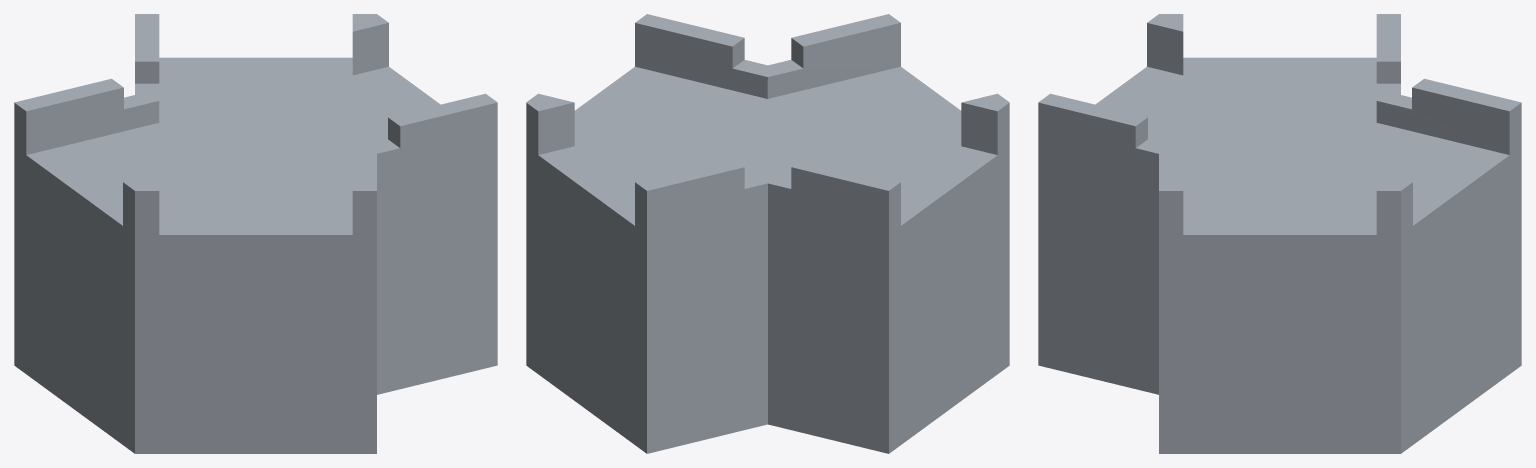
The model's file is wall_top_cross3.fbx.
3 views of the same model, side by side, from view 1: azimuth 30°, elevation 25°; view 2: azimuth 150°, elevation 25°; view 3: azimuth 270°, elevation 25° (orthographic).
Visible parts, largest first — view 1: Cylinder; view 2: Cylinder; view 3: Cylinder.
Boxes of the visible parts, x1=… form: Cylinder: x1=14, y1=14, x2=497, y2=453; Cylinder: x1=526, y1=14, x2=1009, y2=453; Cylinder: x1=1038, y1=14, x2=1521, y2=453.
Bounding box in the file's own units: 1.73 × 1.2 × 2.
